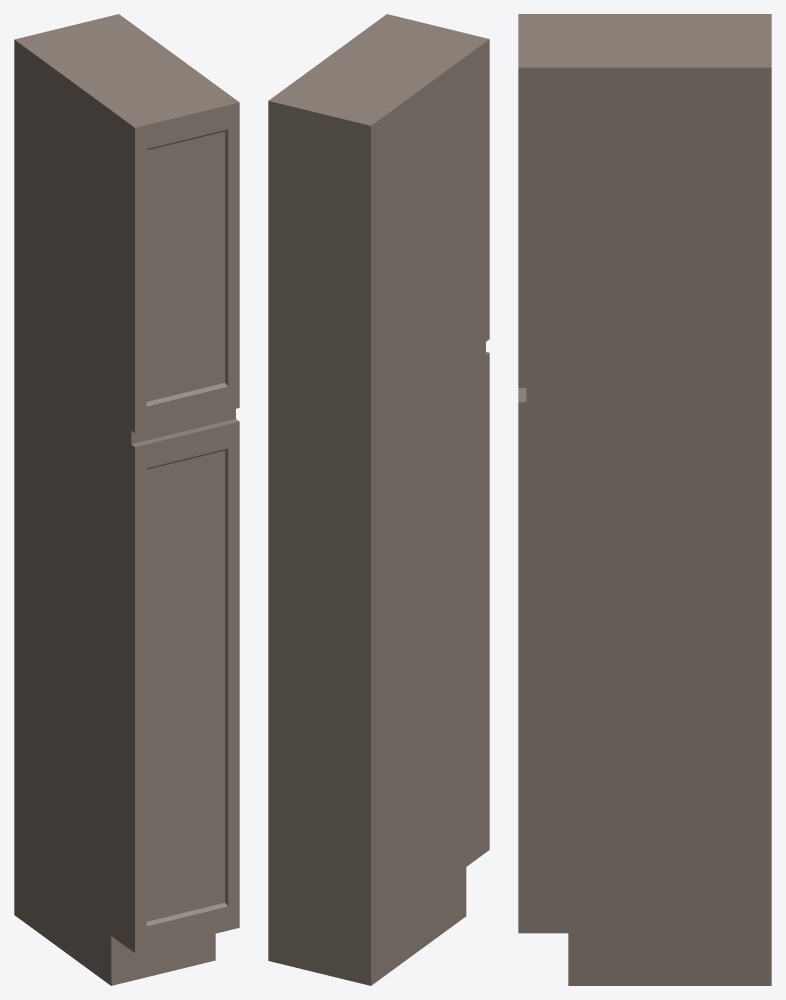
Rendered from Universal-Design-Utility-Cabinet-24-Deep_std_001_W12in_1D.glb.
3 renders of one model, left to right at view 1: azimuth 30°, elevation 25°; view 2: azimuth 150°, elevation 25°; view 3: azimuth 270°, elevation 25°, orthographic. The views are drawn at different scales.
Visible parts, largest first — view 1: Universal-Design-Utility-Cabinet-24-Deep.std.001_W12in_1D; view 2: Universal-Design-Utility-Cabinet-24-Deep.std.001_W12in_1D; view 3: Universal-Design-Utility-Cabinet-24-Deep.std.001_W12in_1D.
Boxes of the visible parts, left/top/right/bottom form: Universal-Design-Utility-Cabinet-24-Deep.std.001_W12in_1D: left=14, top=14, right=239, bottom=985; Universal-Design-Utility-Cabinet-24-Deep.std.001_W12in_1D: left=268, top=14, right=489, bottom=985; Universal-Design-Utility-Cabinet-24-Deep.std.001_W12in_1D: left=518, top=14, right=771, bottom=985.
Bounding box in the file's own units: 0.3048 × 2.44 × 0.6096.
